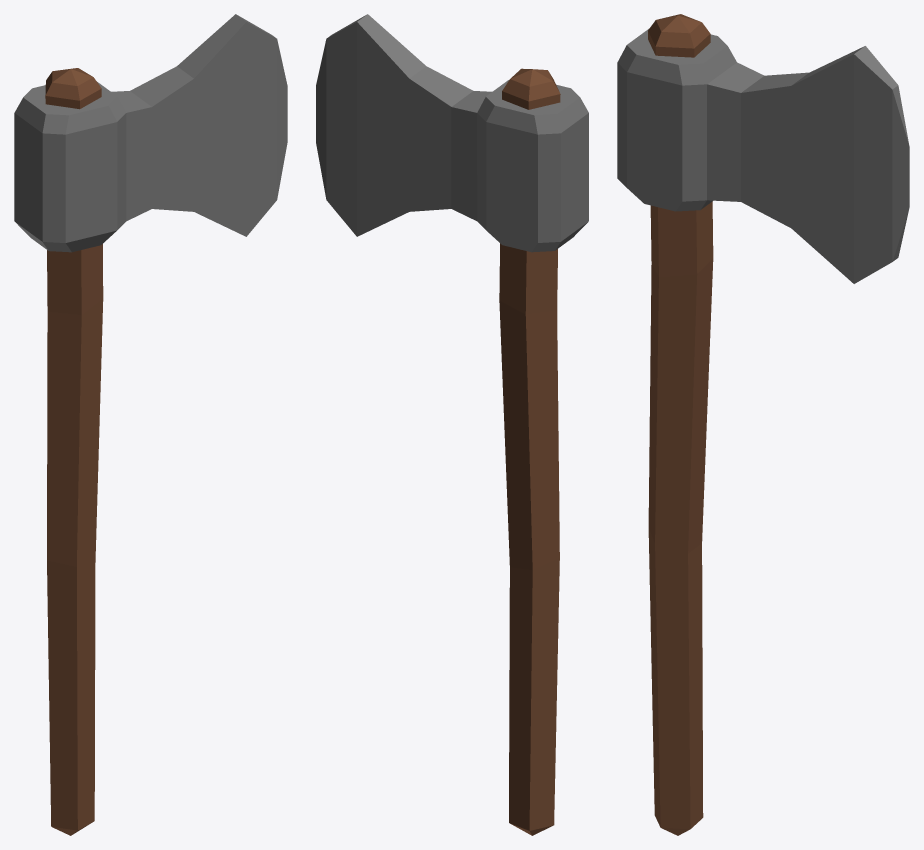
Rendered from IronAxe.fbx.
3 views of the same model, side by side, from view 1: azimuth 30°, elevation 25°; view 2: azimuth 150°, elevation 25°; view 3: azimuth 330°, elevation 25° (orthographic). The views are drawn at different scales.
Parts seen in each view (by area): view 1: Iron Axe.001; view 2: Iron Axe.001; view 3: Iron Axe.001.
Part boxes in pixels (left/top/right/bottom): Iron Axe.001: left=14, top=14, right=287, bottom=835; Iron Axe.001: left=316, top=14, right=588, bottom=835; Iron Axe.001: left=617, top=14, right=909, bottom=835.
Size of the model in its own units: 146 by 418 by 41.11.
